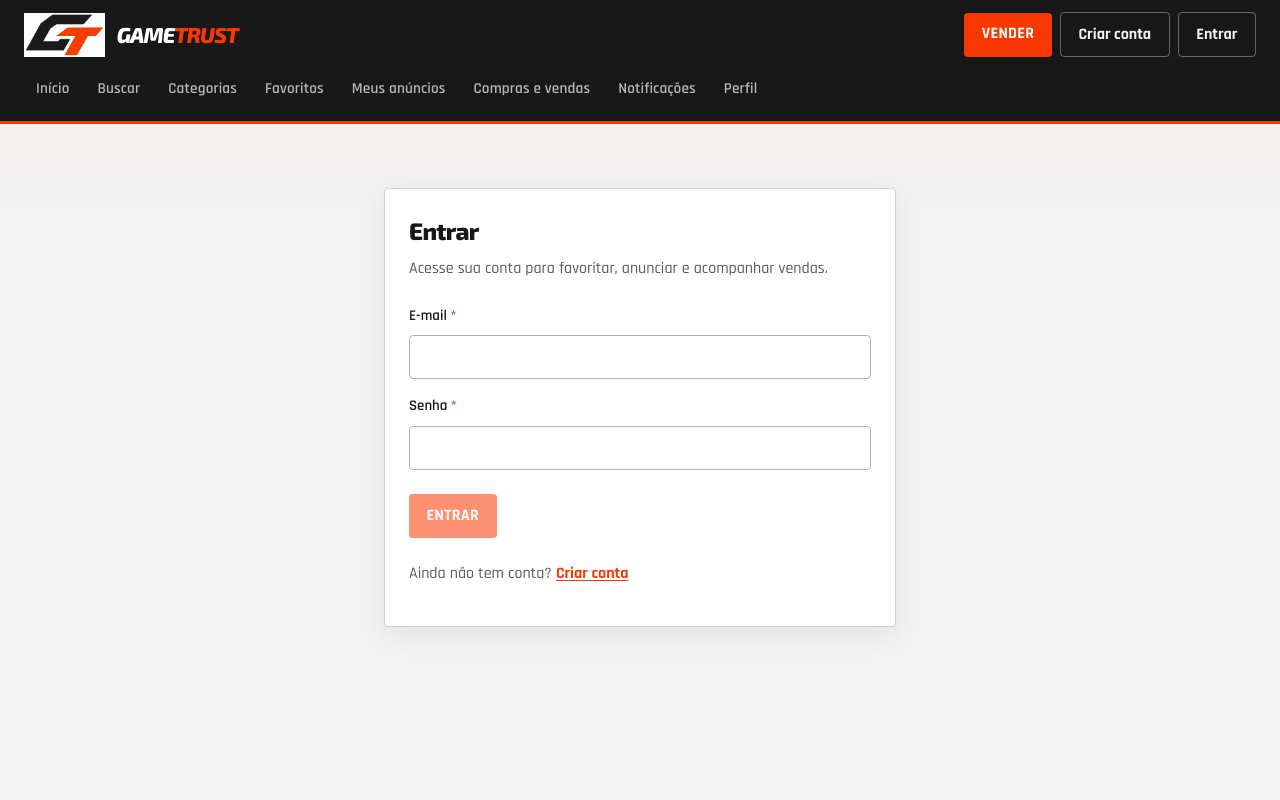
Test case: auth pages › shows the generic copy on a bad password and keeps the user on the form
Type "carlos@example.com" into the field labelled "E-mail *" at (640, 357), box left=409, top=335, right=871, bottom=379
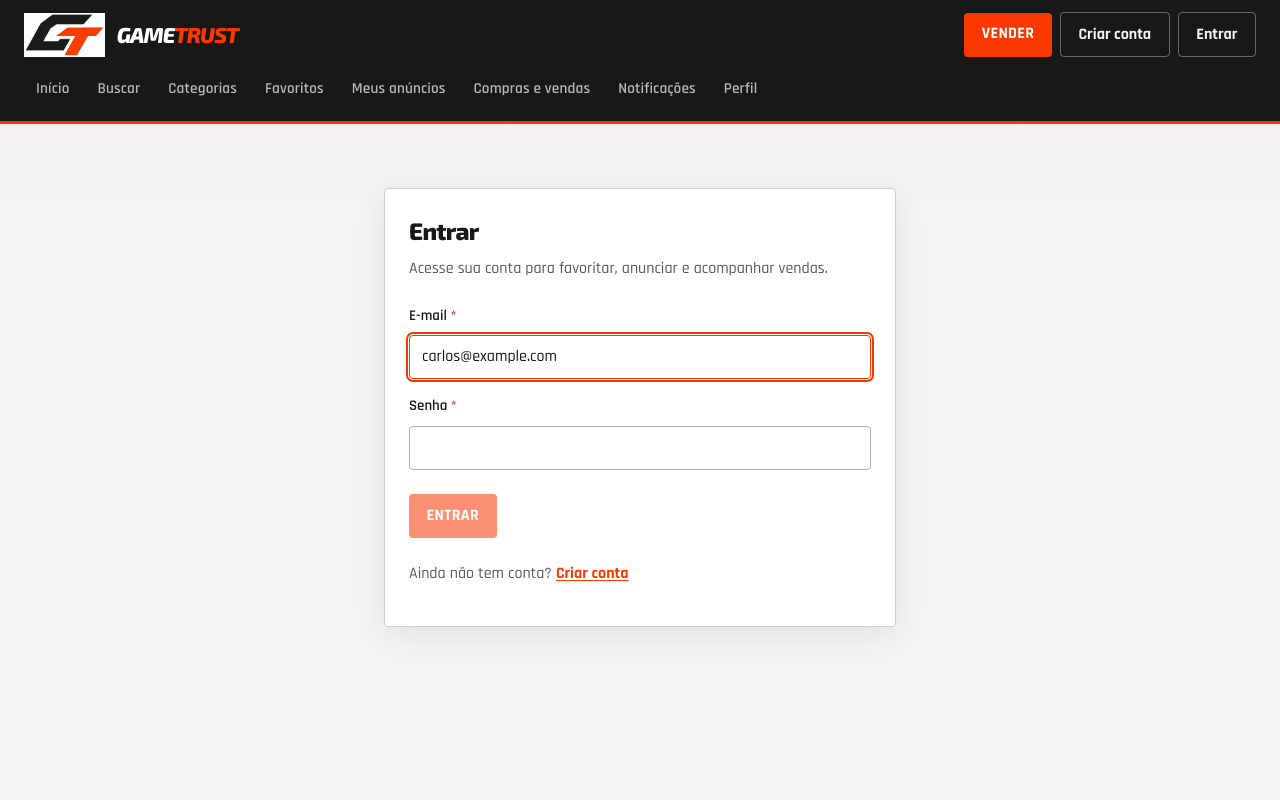
Type "errada" into the password field labelled "Senha *" at (640, 448), box left=409, top=426, right=871, bottom=470
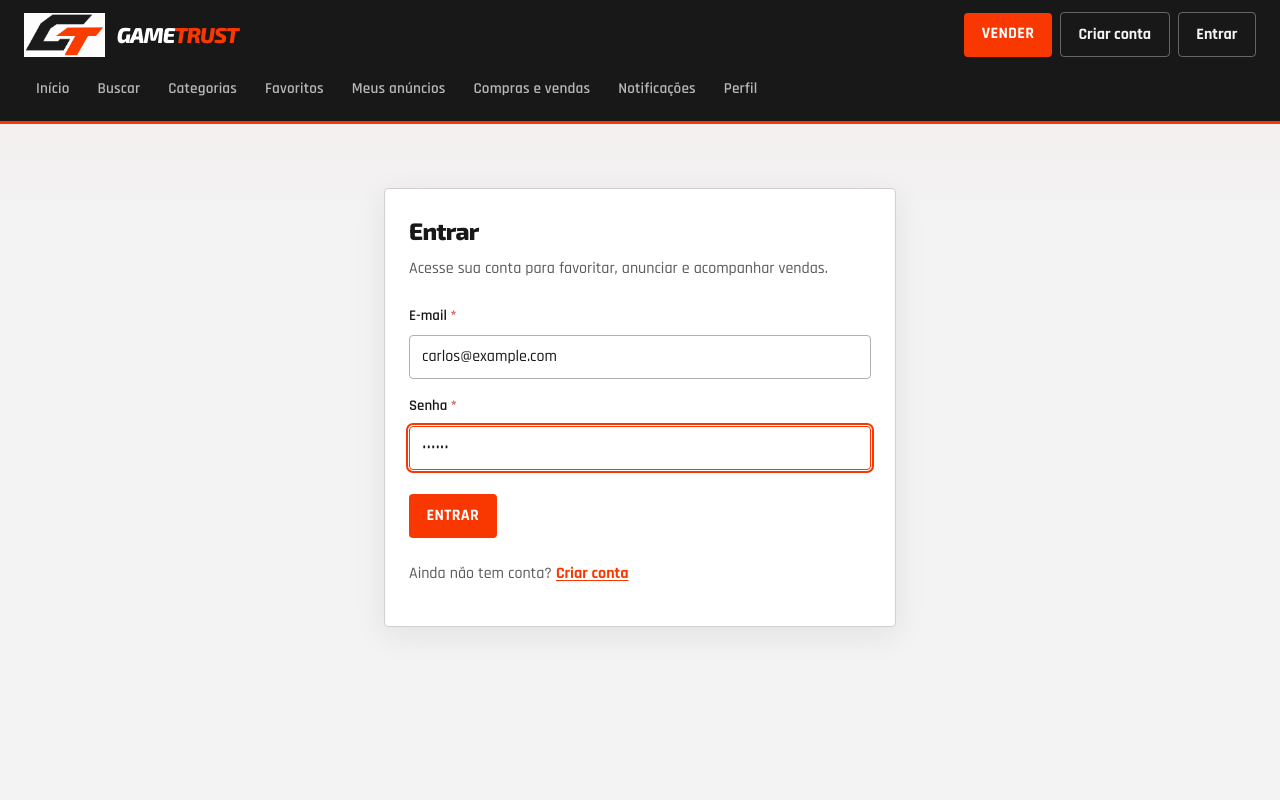
Click the button "Entrar" at (453, 516), box left=409, top=494, right=497, bottom=538
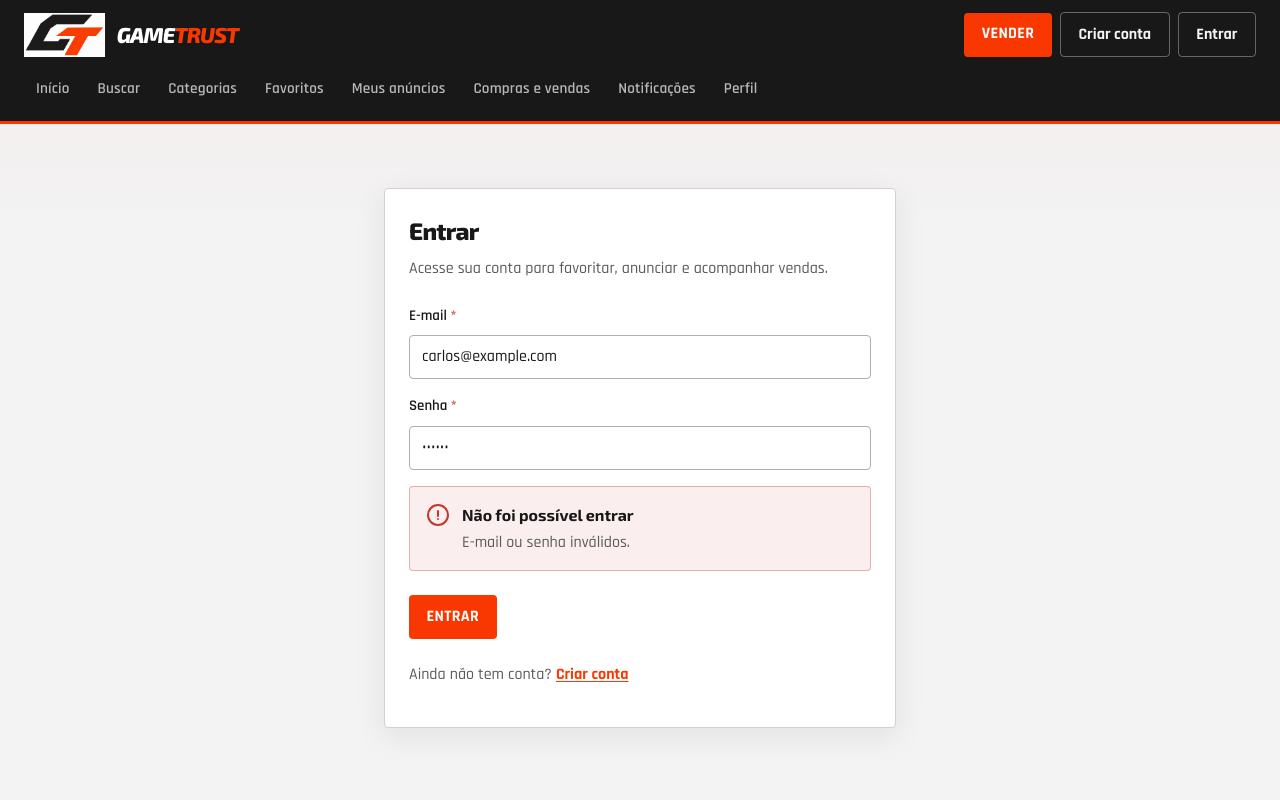
expect the message shows "E-mail ou senha inválidos.": met, box left=462, top=532, right=630, bottom=553
